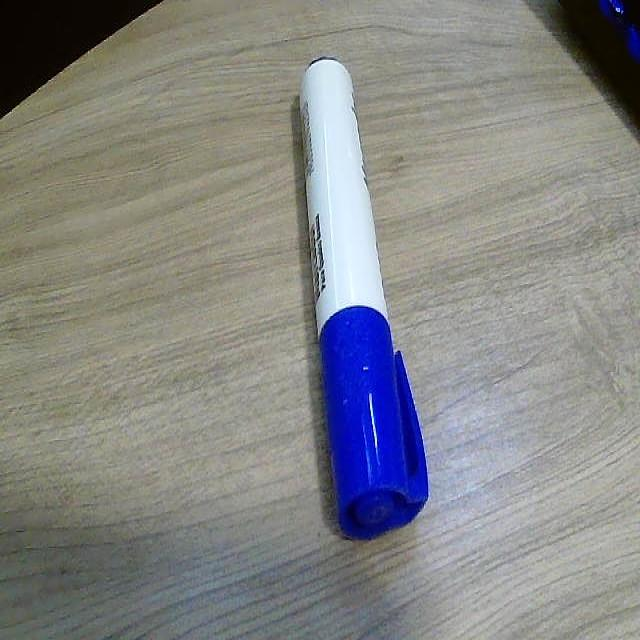caneta: (260, 34, 444, 538)
